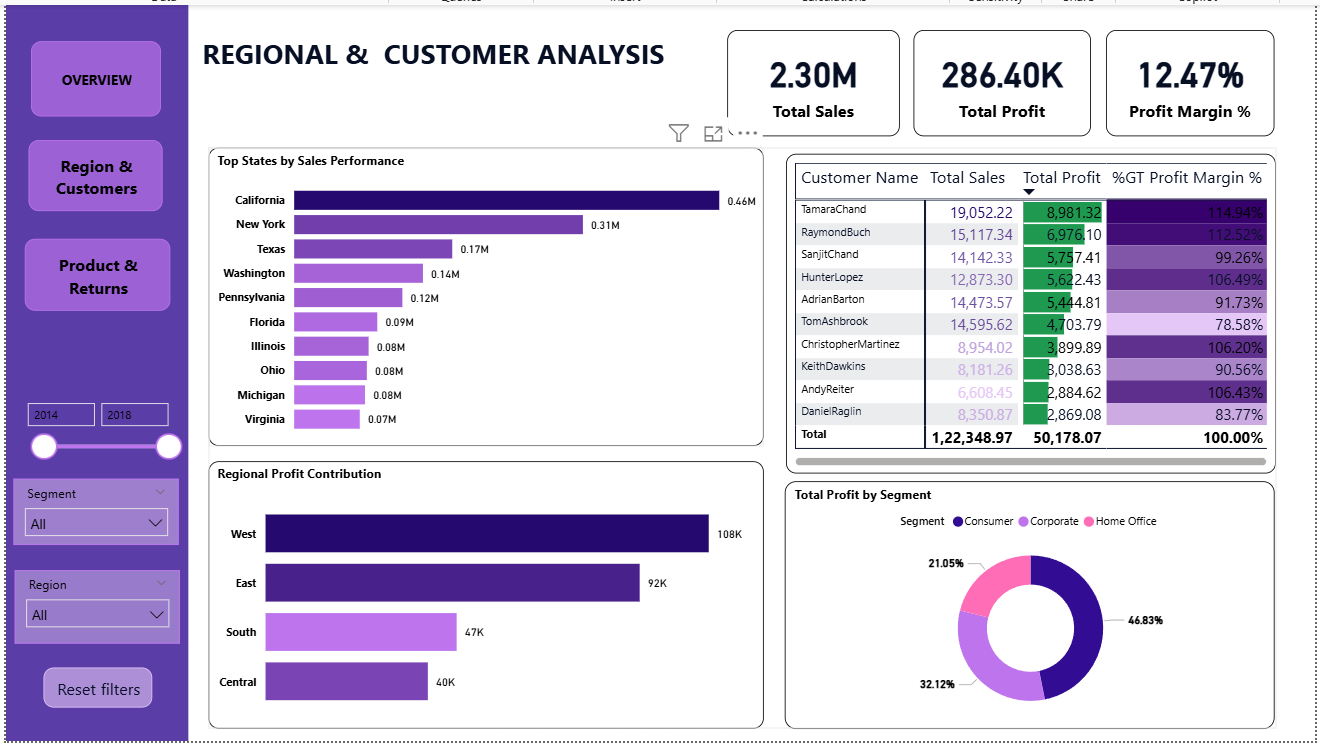

What the dashboard file says about the page in this screenshot:
{"tool":"powerbi","page":{"name":"Regional&customer Analysis","canvas":[1280,720],"ordinal":1},"visuals":[{"type":"card","fields":{"Values":["Fact_sales.Total Sales"]},"box":[705.6,24.5,168.8,103.9],"z":0,"group":"g1"},{"type":"textbox","box":[150,269,300,300],"z":0},{"type":"card","fields":{"Values":["Fact_sales.Total Profit"]},"box":[887.8,24.5,173.6,103.9],"z":1000,"group":"g1"},{"type":"textbox","box":[186.6,24.7,480.3,104.3],"z":1000},{"type":"card","fields":{"Values":["Fact_sales.Profit Margin %"]},"box":[1076.1,24.5,165.1,103.9],"z":2000,"group":"g1"},{"type":"group","id":"g1","title":"Group 2","box":[705.6,24.5,535.6,103.9],"z":3000},{"type":"group","id":"g2","title":"Group 3","box":[198.5,139.2,1043.7,569.2],"z":4000},{"type":"clusteredBarChart","title":"Top States by Sales Performance","fields":{"Category":["Fact_sales.State"],"Y":["Fact_sales.Total Sales"]},"box":[198.5,139.2,543,292.2],"z":6000,"group":"g2"},{"type":"shape","box":[0,0,178.4,720.4],"z":7000,"group":"g3"},{"type":"clusteredBarChart","title":"Regional Profit Contribution","fields":{"Category":["Fact_sales.Region"],"Y":["Fact_sales.Total Profit"]},"box":[198.5,446.5,543,261.8],"z":7000,"group":"g2"},{"type":"pivotTable","fields":{"Rows":["Fact_sales.Customer Name"],"Values":["Fact_sales.Total Sales","Fact_sales.Total Profit","Fact_sales.Profit Margin %"]},"box":[762.9,145.1,479.4,313],"z":8000,"group":"g2"},{"type":"slicer","fields":{"Values":["Fact_sales.Region"]},"box":[8.3,552.3,161.9,72],"z":8000,"group":"g3"},{"type":"slicer","fields":{"Values":["Fact_sales.Segment"]},"box":[6.9,463.7,161.9,65.1],"z":9000,"group":"g3"},{"type":"donutChart","fields":{"Category":["Fact_sales.Segment"],"Y":["Fact_sales.Total Profit"]},"box":[762.2,465.8,479.6,242.6],"z":9000,"group":"g2"},{"type":"slicer","fields":{"Values":["Dim_Date.Year"]},"box":[8.3,379.2,171.6,84.4],"z":10000,"group":"g3"},{"type":"actionButton","box":[24.9,36,127.3,73.4],"z":11000,"group":"g3"},{"type":"actionButton","box":[22.1,131.5,131.5,69.2],"z":12000,"group":"g3"},{"type":"actionButton","box":[18,228.4,142.6,70.6],"z":13000,"group":"g3"},{"type":"actionButton","box":[36.1,648.6,106.7,39.6],"z":15000,"group":"g3"},{"type":"group","id":"g3","title":"Group 3","box":[0,0,179.8,720.2],"z":15003}]}

Visuals, with their boxes on the page's 1280x720 design canvas (x1, y1, x2, y2). These are canvas units, not pixel positions in the 1320x746 screenshot, which may show the page scaled, cropped or inside an application window:
card - Fact_sales.Total Sales: 706, 24, 874, 128
textbox: 150, 269, 450, 569
card - Fact_sales.Total Profit: 888, 24, 1061, 128
textbox: 187, 25, 667, 129
card - Fact_sales.Profit Margin %: 1076, 24, 1241, 128
"Group 2" group: 706, 24, 1241, 128
"Group 3" group: 198, 139, 1242, 708
"Top States by Sales Performance" clusteredBarChart: 198, 139, 742, 431
shape: 0, 0, 178, 720
"Regional Profit Contribution" clusteredBarChart: 198, 446, 742, 708
pivotTable - Fact_sales.Customer Name x Fact_sales.Total Sales: 763, 145, 1242, 458
slicer - Fact_sales.Region: 8, 552, 170, 624
slicer - Fact_sales.Segment: 7, 464, 169, 529
donutChart - Fact_sales.Segment x Fact_sales.Total Profit: 762, 466, 1242, 708
slicer - Dim_Date.Year: 8, 379, 180, 464
actionButton: 25, 36, 152, 109
actionButton: 22, 132, 154, 201
actionButton: 18, 228, 161, 299
actionButton: 36, 649, 143, 688
"Group 3" group: 0, 0, 180, 720
